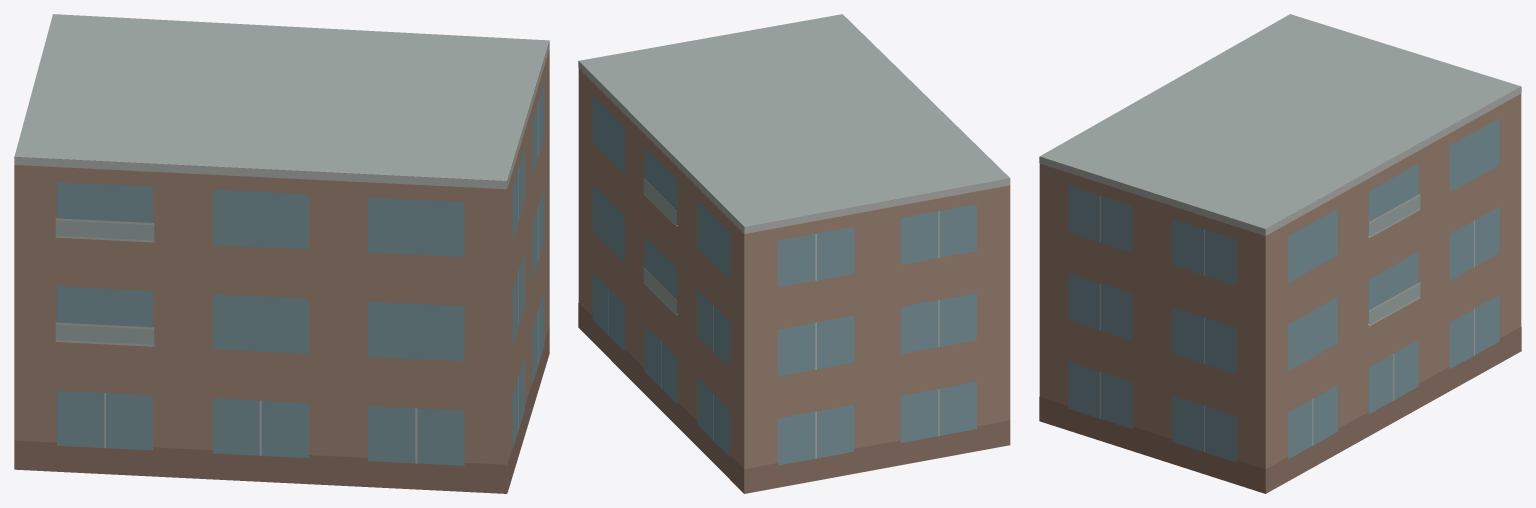
File: survey-upis-32971944.glb
3 renders of one model, left to right at view 1: azimuth 30°, elevation 25°; view 2: azimuth 150°, elevation 25°; view 3: azimuth 270°, elevation 25°, orthographic. The views are drawn at different scales.
Parts seen in each view (by area): view 1: survey-upis-32971944.tmp; view 2: survey-upis-32971944.tmp; view 3: survey-upis-32971944.tmp.
Boxes of the visible parts, x1,y1,x2,y2 form: survey-upis-32971944.tmp: (14, 14, 549, 493); survey-upis-32971944.tmp: (578, 14, 1010, 493); survey-upis-32971944.tmp: (1039, 14, 1521, 493).
Size of the model in its own units: 16.12 by 9.25 by 15.27.
